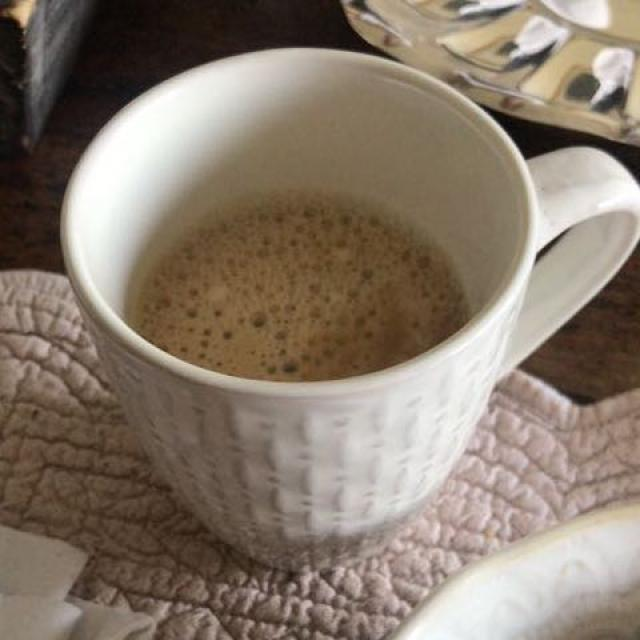coffee: (135, 194, 467, 379)
